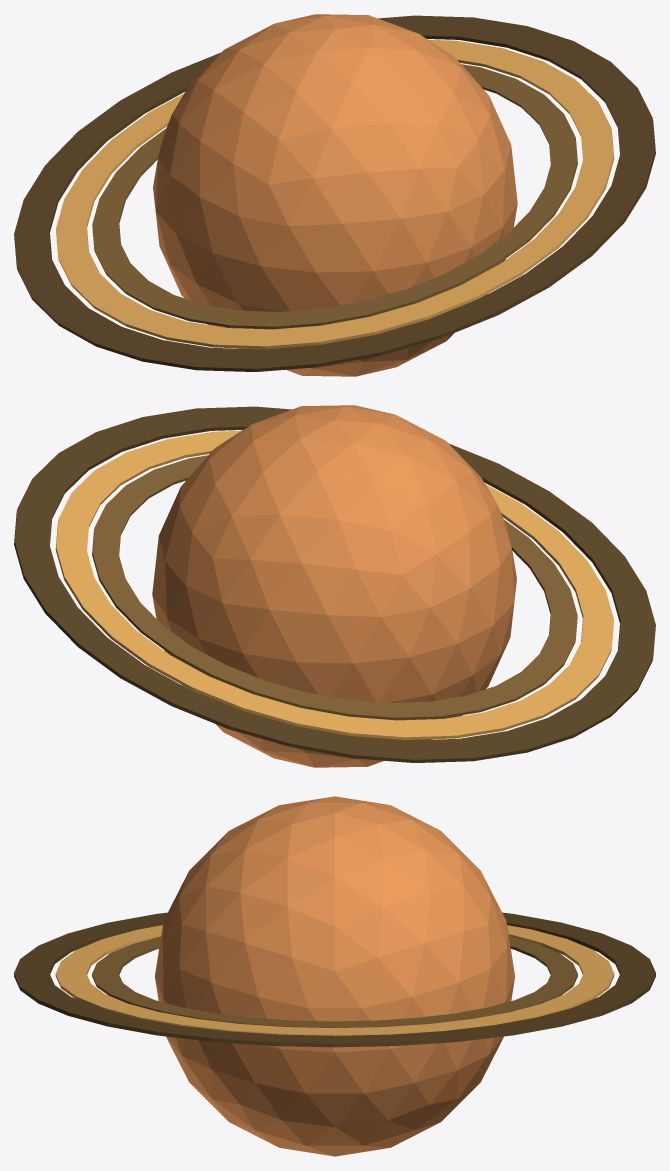
Rendered from planete 4.fbx.
The picture shows the model from 3 angles, top to bottom: view 1: azimuth 30°, elevation 25°; view 2: azimuth 150°, elevation 25°; view 3: azimuth 270°, elevation 25°; orthographic projection.
Parts seen in each view (by area): view 1: Icosphere.021; view 2: Icosphere.021; view 3: Icosphere.021.
Boxes of the visible parts, x1,y1,x2,y2 form: Icosphere.021: [14, 14, 655, 376]; Icosphere.021: [14, 405, 655, 767]; Icosphere.021: [14, 796, 655, 1156].
Size of the model in its own units: 349 by 200 by 356.
